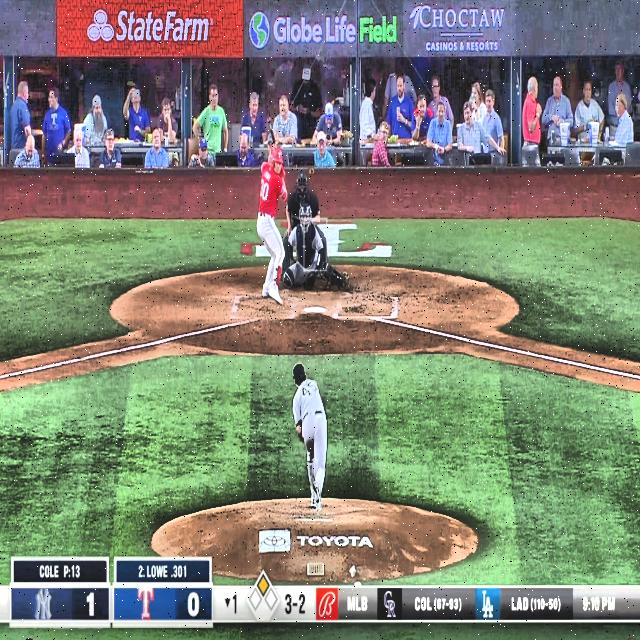baseball: (337, 302, 342, 313)
